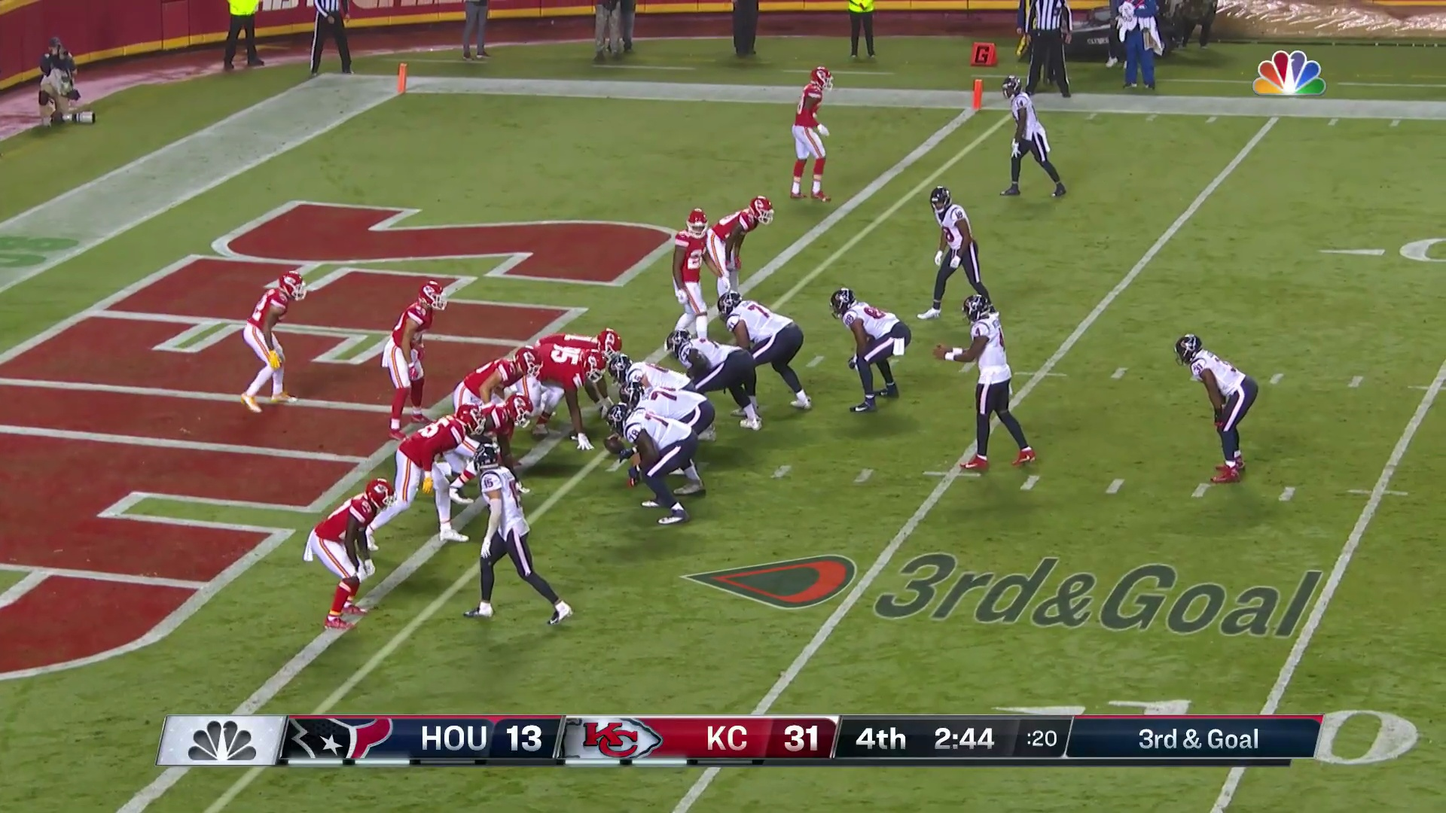Player: (618, 361, 710, 475), (535, 331, 615, 442), (387, 281, 444, 424), (395, 412, 480, 506), (459, 347, 542, 434), (667, 325, 748, 393), (791, 66, 831, 199), (503, 353, 562, 436), (672, 208, 709, 337)
